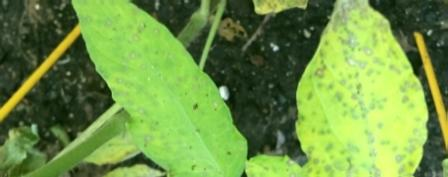Tomato Septoria leaf spot: (60, 0, 253, 177), (285, 0, 432, 176)
